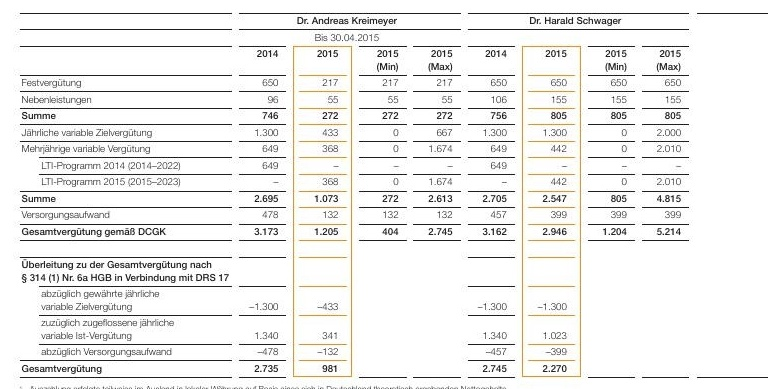table: (0, 0, 768, 389)
